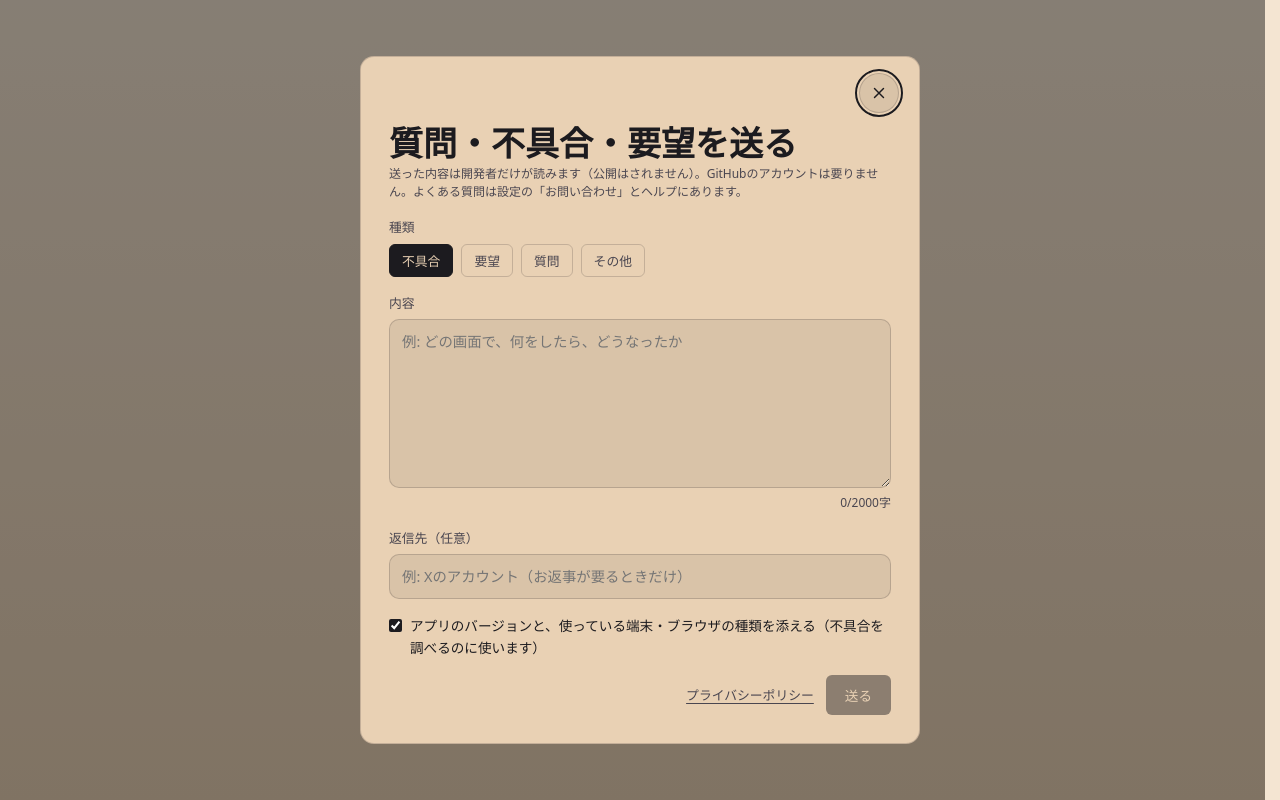
Test case: FeedbackSheet › adds the app version and device when the box is left checked
Type "話ごとの記録が保存できません" into the text box labelled "内容 0/2000字". click: (640, 404)
box: [389, 319, 891, 488]
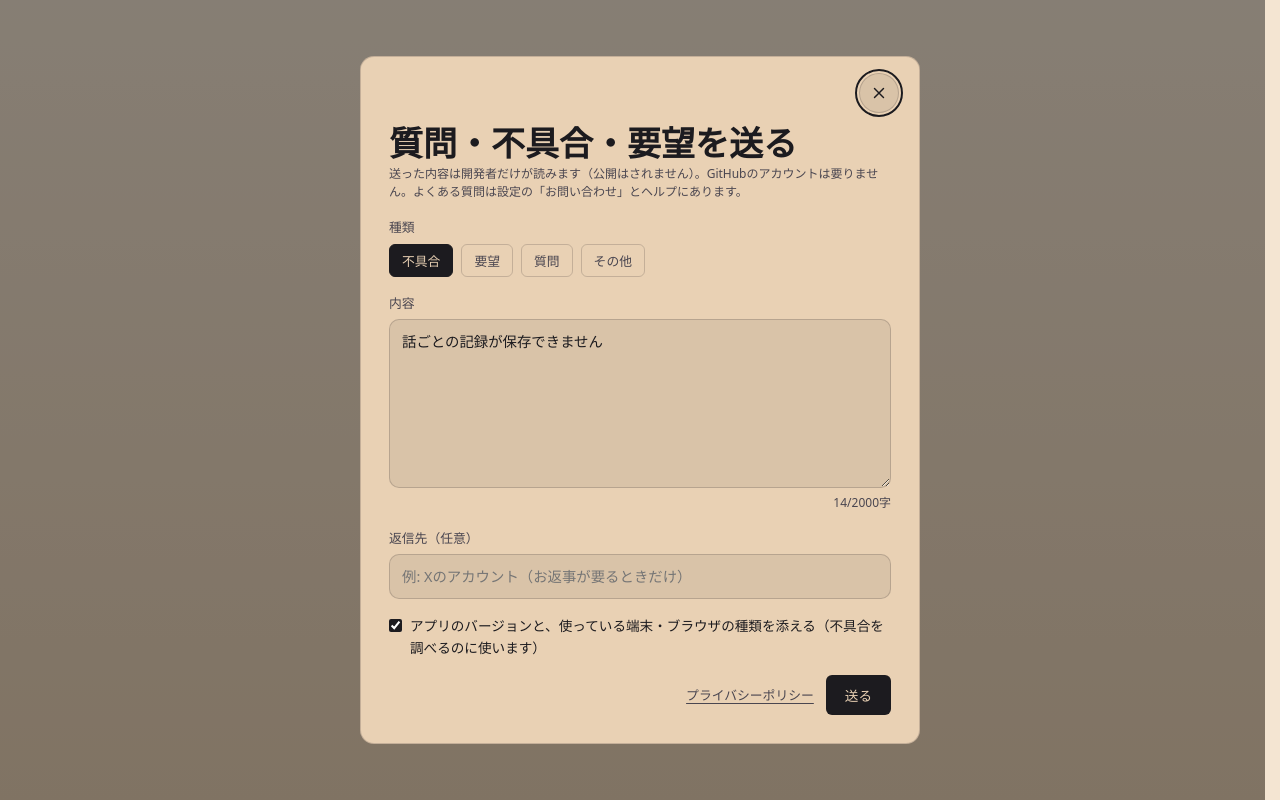
Click the button "送る". click: (858, 695)
box: [826, 675, 891, 715]
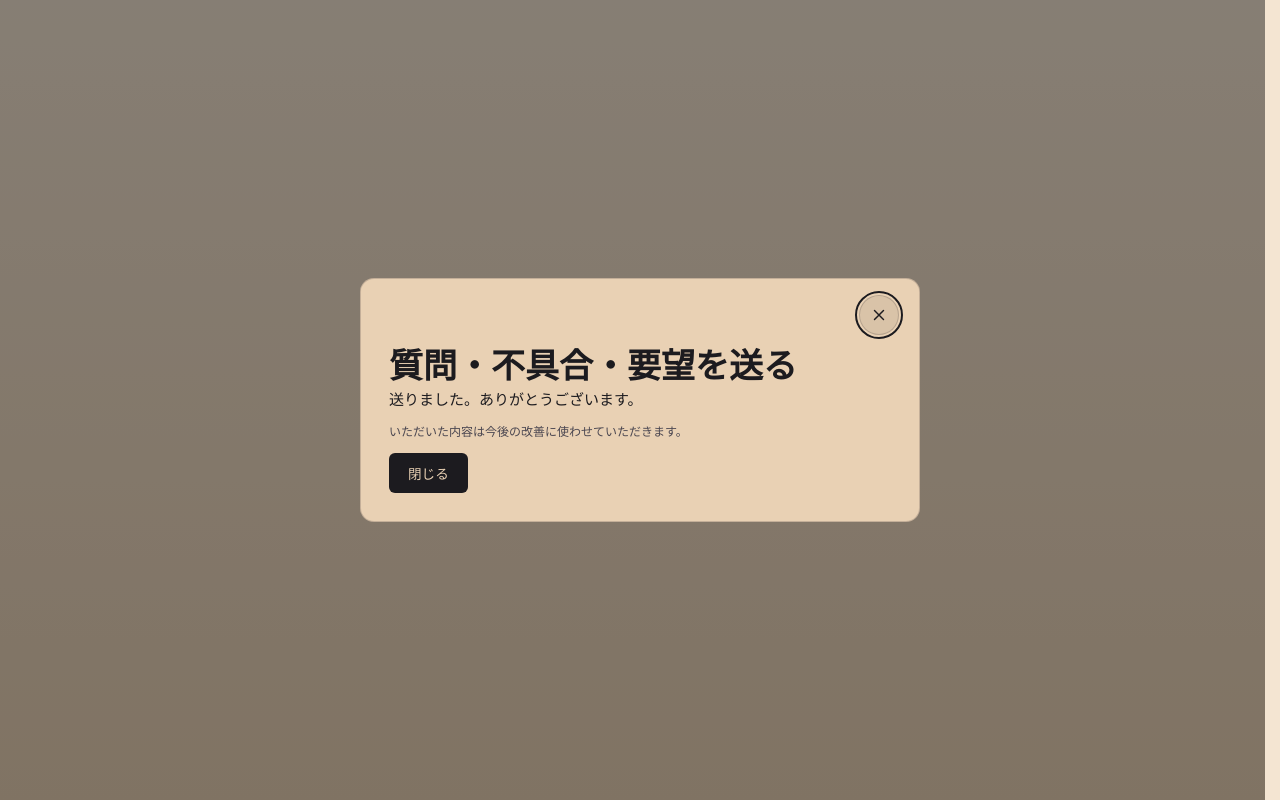
expect the text "送りました。ありがとうございます。" is shown: met, box [389, 387, 642, 411]
